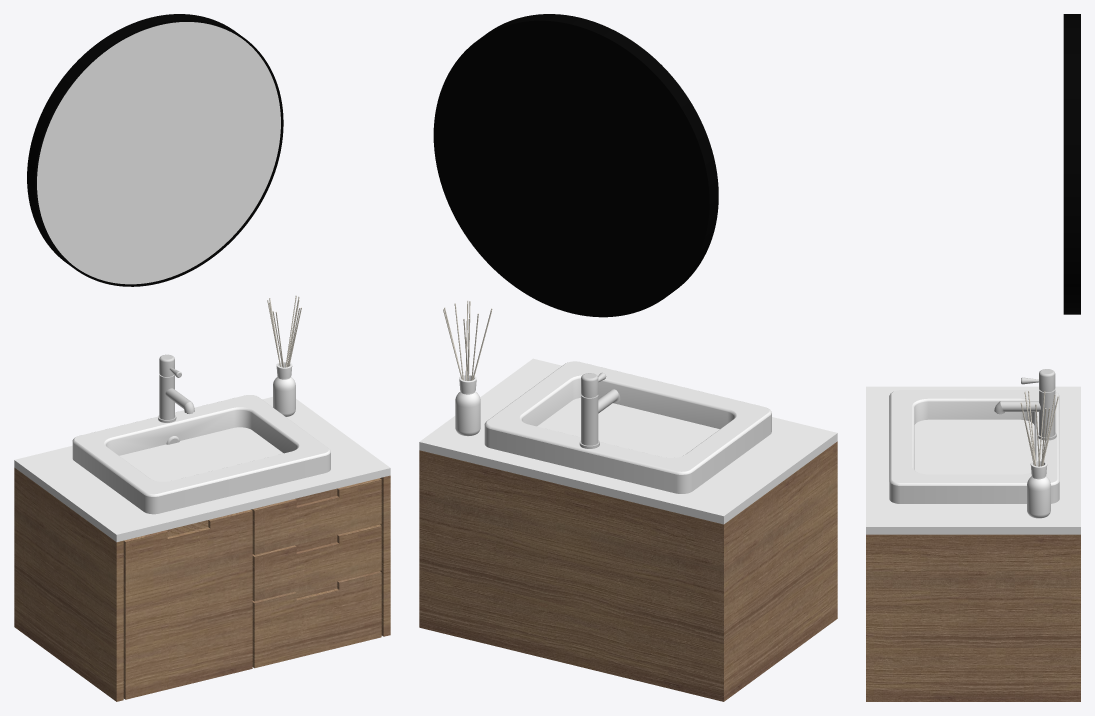
The model's file is vanity_mirror.glb.
3 views of the same model, side by side, from view 1: azimuth 30°, elevation 25°; view 2: azimuth 150°, elevation 25°; view 3: azimuth 270°, elevation 25° (orthographic). The views are drawn at different scales.
Visible parts, largest first — view 1: Geom3D (×11); view 2: Geom3D (×6); view 3: Geom3D (×8).
Part boxes in pixels (box(x1,y1,x2,y2)): Geom3D (×11): box(14, 14, 390, 701); Geom3D (×6): box(419, 14, 837, 701); Geom3D (×8): box(866, 14, 1080, 701).
Size of the model in its own units: 0.7725 by 1.55 by 0.5.
Materials: 7 (1 with a texture image).
